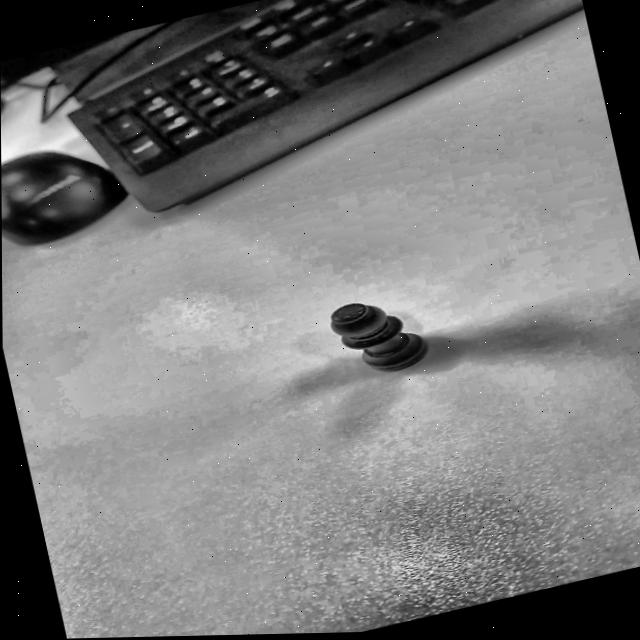black-bishop: (312, 283, 445, 395)
